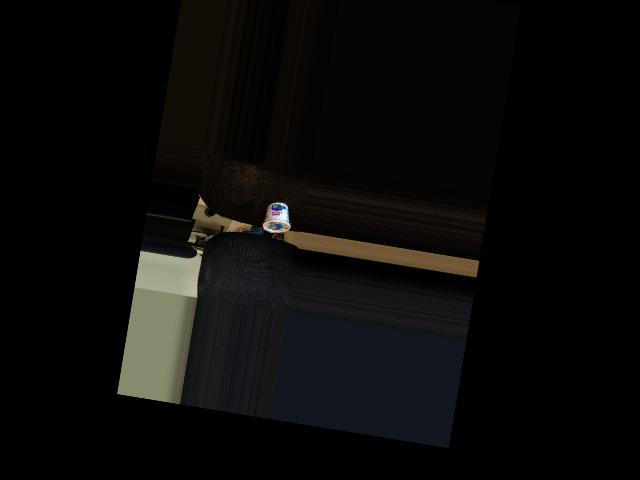cotage: (259, 198, 294, 235)
